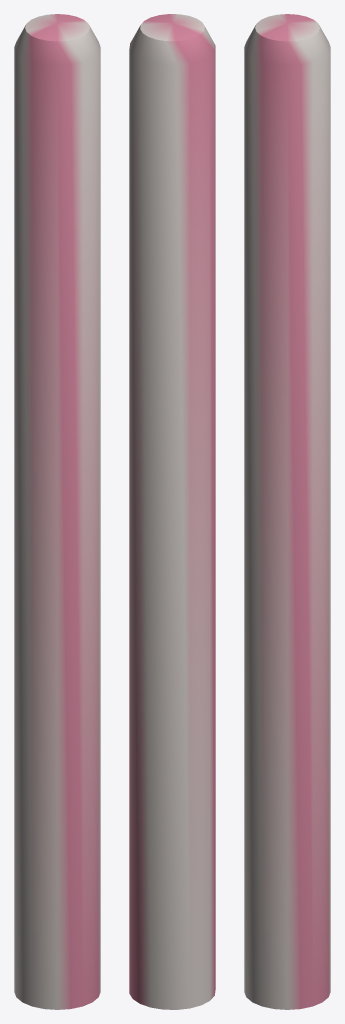
Rendered from Title_Pole.fbx.
3 views of the same model, side by side, from view 1: azimuth 90°, elevation 25°; view 2: azimuth 150°, elevation 25°; view 3: azimuth 270°, elevation 25° (orthographic).
Visible parts, largest first — view 1: Title_Pole; view 2: Title_Pole; view 3: Title_Pole.
Part boxes in pixels (bbox=[...]): Title_Pole: bbox=[14, 14, 100, 1009]; Title_Pole: bbox=[129, 14, 215, 1009]; Title_Pole: bbox=[244, 14, 330, 1009].
Bounding box in the file's own units: 0.032 × 0.395 × 0.032.
